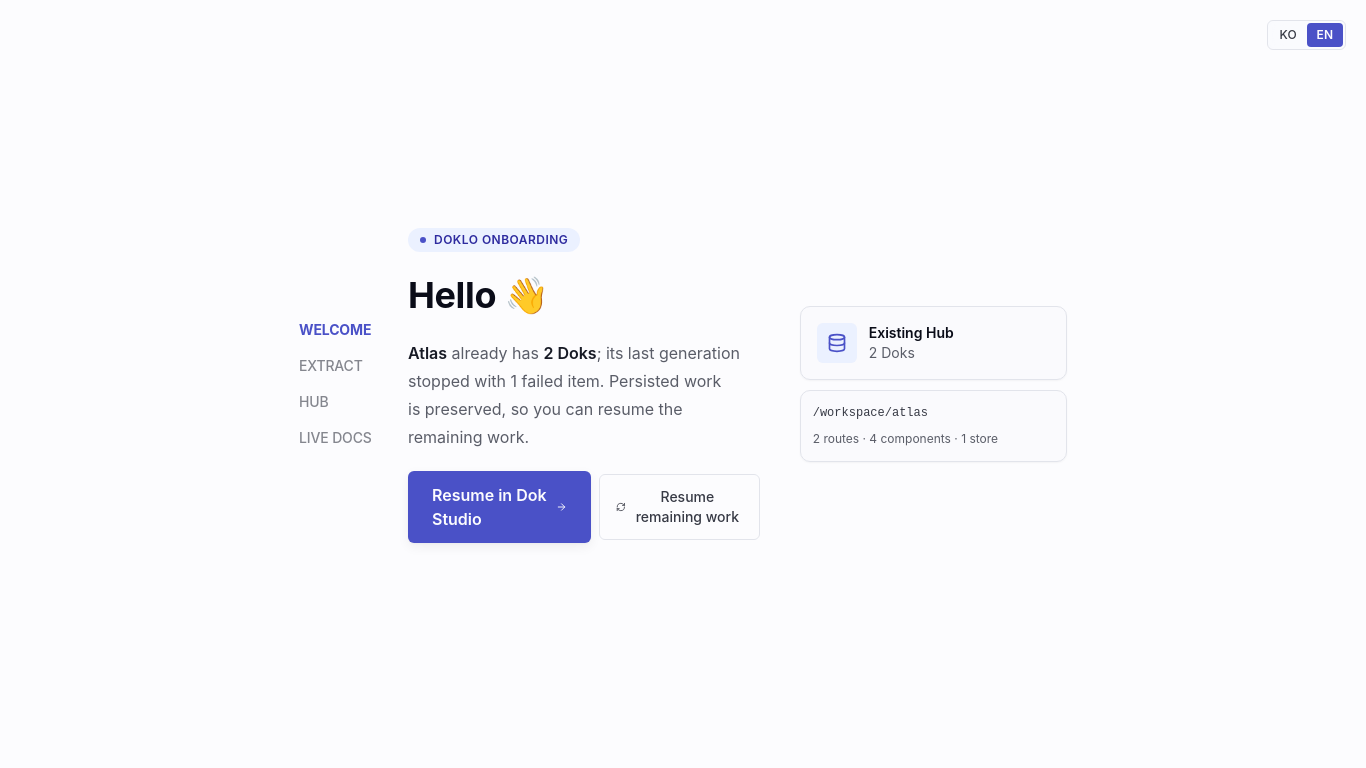
Scenario: persisted onboarding readiness › restores the receipt total from the union of Hub Doks and ledger targets
The width and height of the screenshot is (1366, 768).
Click the button "Resume remaining work" at (679, 507), box [599,474,760,540]
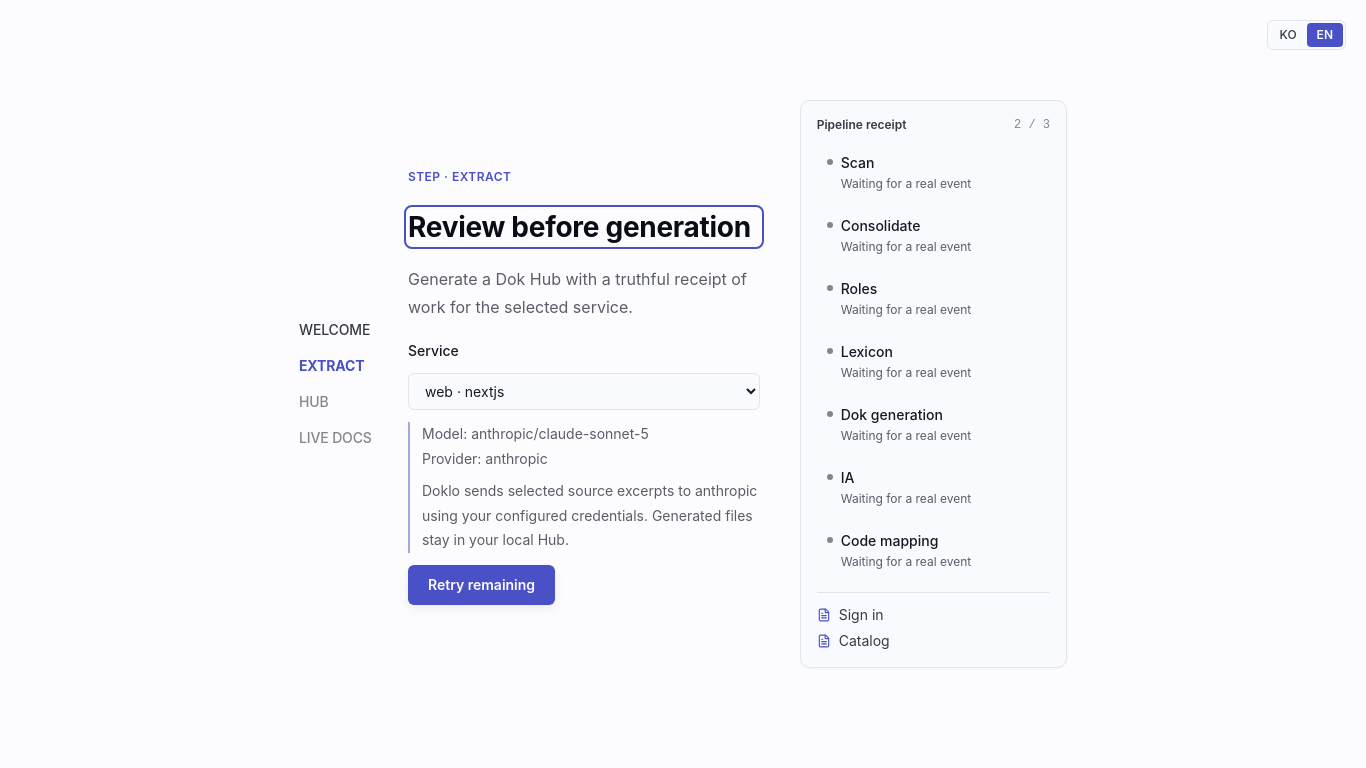
Check: the text "2 / 3" is shown, box [1014,117,1050,133]
